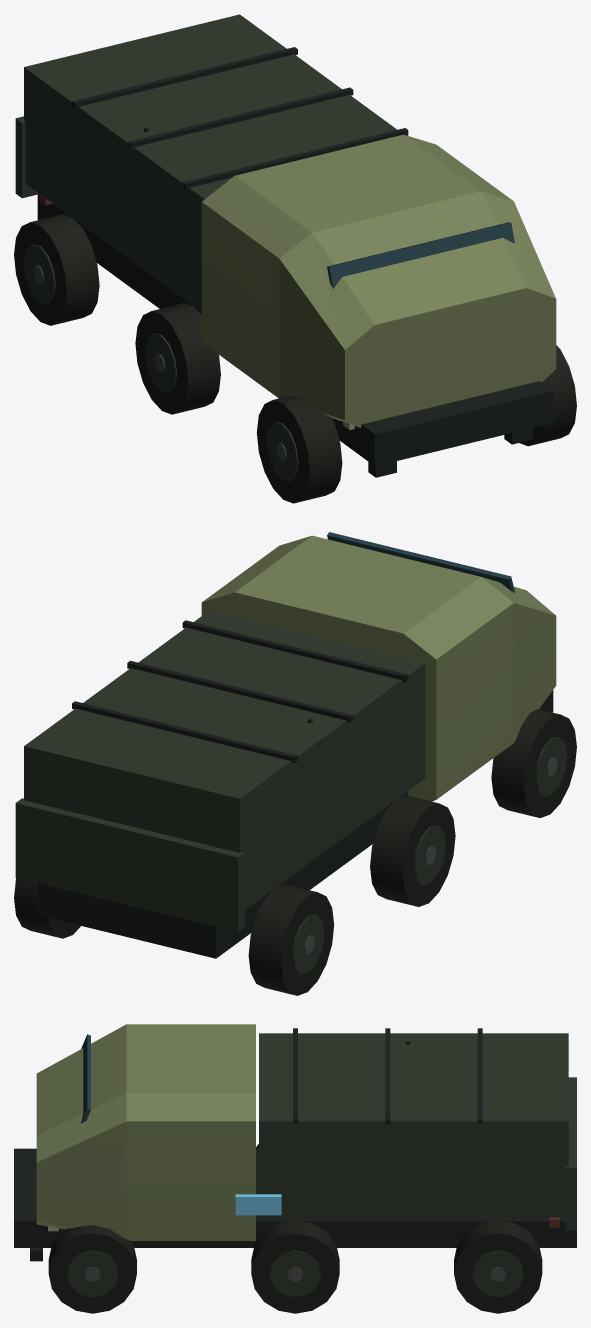
File: logiTruck.glb
3 views of the same model, one above another, from view 1: azimuth 30°, elevation 25°; view 2: azimuth 150°, elevation 25°; view 3: azimuth 270°, elevation 25° (orthographic). The views are drawn at different scales.
Visible parts, largest first — view 1: equipment, armor, glass; view 2: equipment, armor, glass; view 3: equipment, armor, marking, glass.
Boxes of the visible parts, x1,y1,x2,y2 form: equipment: (14,14,576,503); armor: (201,134,556,427); glass: (327,222,514,288); equipment: (14,610,576,995); armor: (201,535,556,801); glass: (327,532,514,592); equipment: (14,1028,576,1313); armor: (36,1024,255,1240); marking: (235,1194,281,1215); glass: (81,1034,90,1123).
Bounding box in the file's own units: 2.84 × 2.4 × 6.1.
